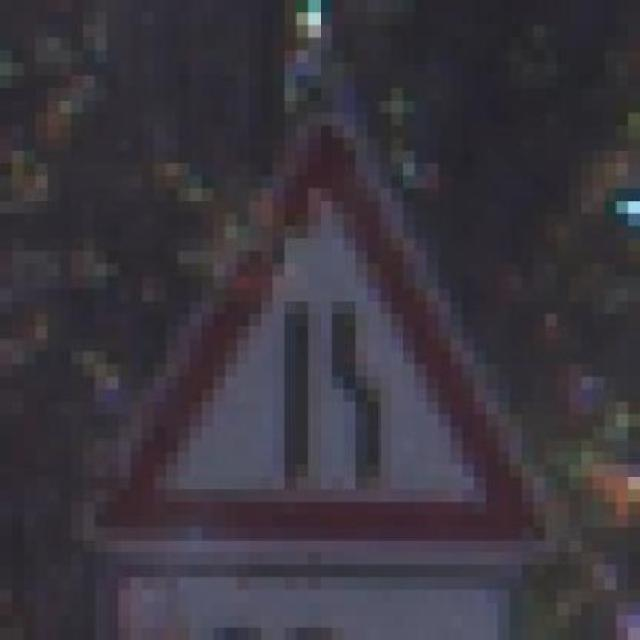-Road narrows on right: (56, 81, 567, 570)
